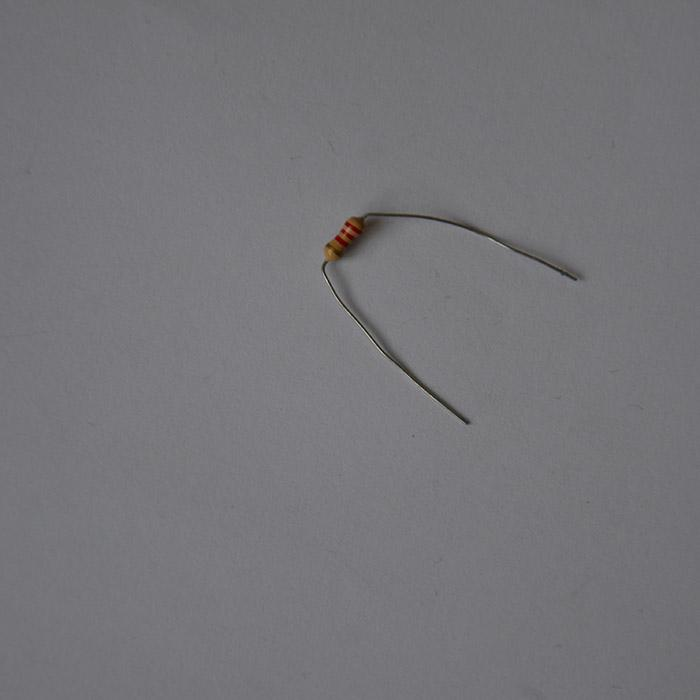resistor: (324, 215, 364, 262)
